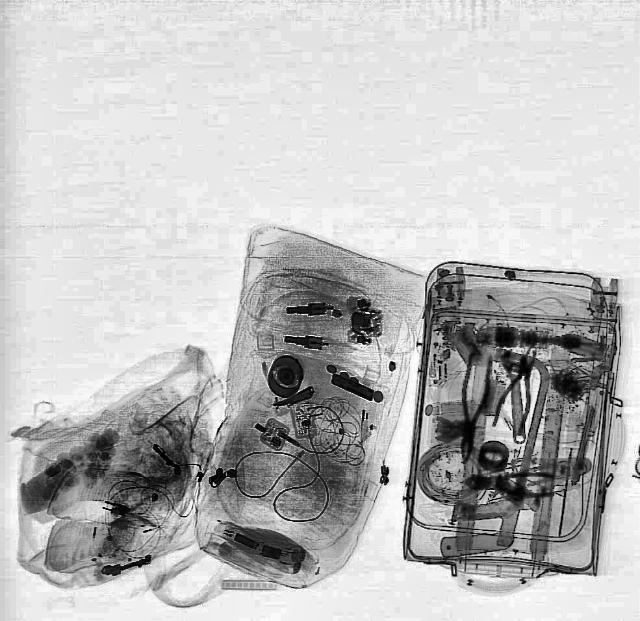Pliers: (449, 345, 497, 463), (491, 342, 549, 432)
Wrench: (496, 347, 530, 444)
